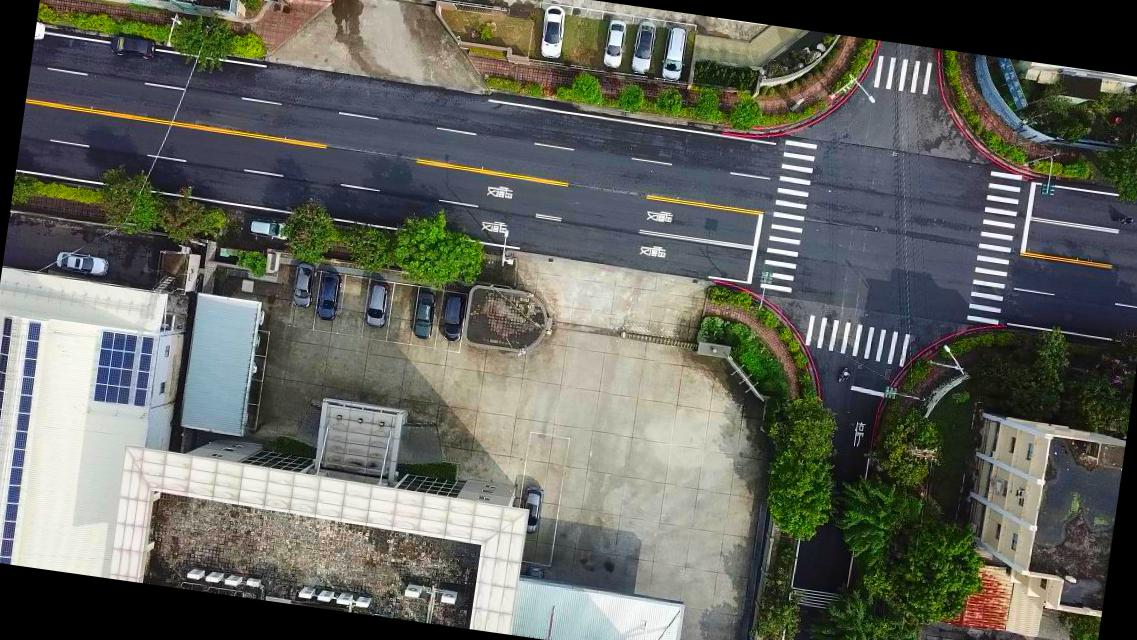vehicle: (536, 4, 570, 62), (659, 25, 688, 84), (629, 18, 658, 76), (362, 282, 394, 334), (108, 32, 157, 64), (55, 250, 110, 278), (311, 270, 341, 320), (601, 18, 628, 72), (438, 292, 466, 344), (409, 291, 437, 341), (519, 485, 545, 535), (289, 262, 314, 312), (246, 214, 290, 242), (526, 565, 544, 579)
